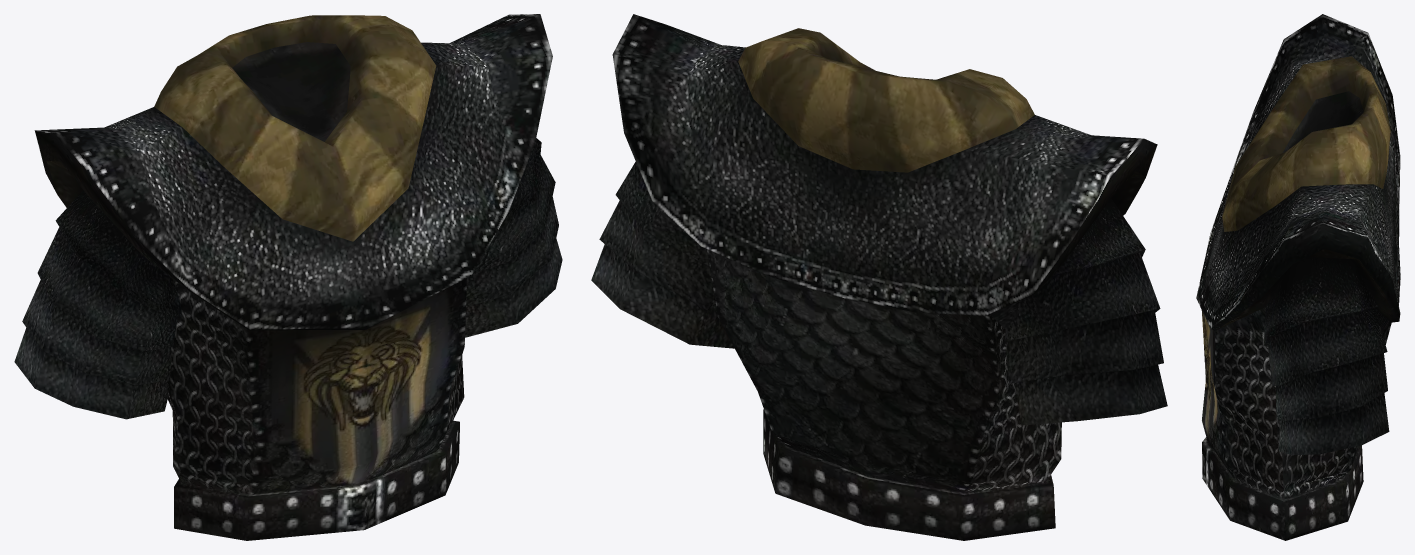
File: STATIC_GS_HUM_ASSA_ARMOR.glb
3 views of the same model, side by side, from view 1: azimuth 30°, elevation 25°; view 2: azimuth 150°, elevation 25°; view 3: azimuth 270°, elevation 25° (orthographic). The views are drawn at different scales.
Parts seen in each view (by area): view 1: Mesh; view 2: Mesh; view 3: Mesh.
Boxes of the visible parts, x1,y1,x2,y2 form: Mesh: [14, 14, 562, 540]; Mesh: [591, 14, 1167, 540]; Mesh: [1196, 14, 1400, 540].
Bounding box in the file's own units: 0.6597 × 0.5264 × 0.2499.
Materials: 1 (1 with a texture image).
